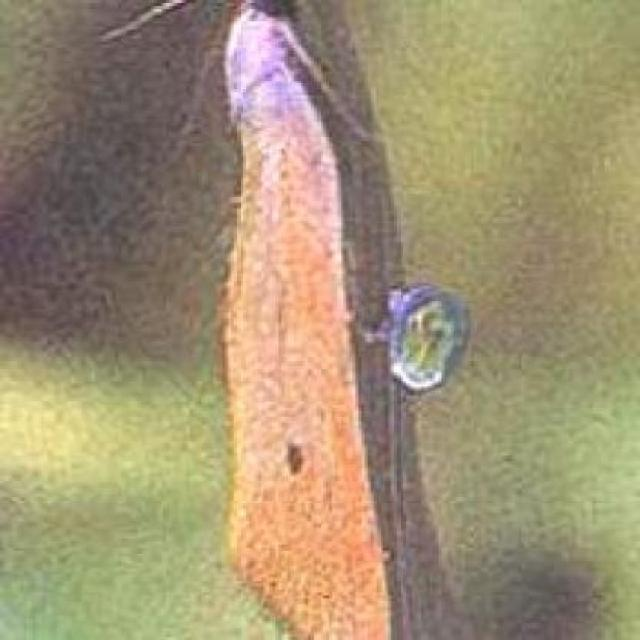stem-borer: (217, 0, 391, 640)
